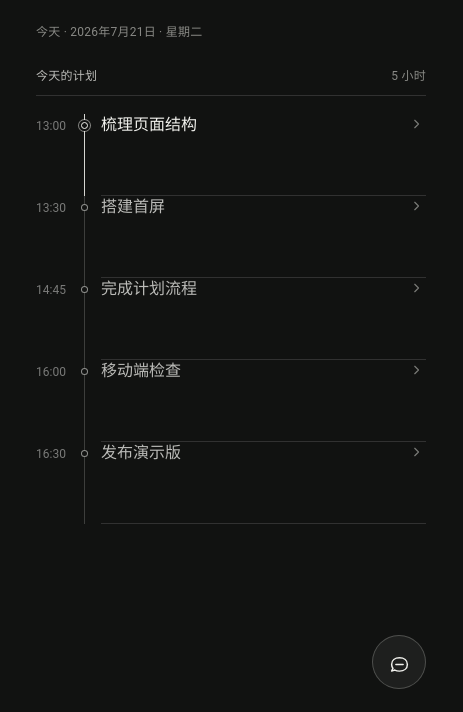
Test: production Hermes MVP interface › opens a dedicated conversation with two multiline textareas
Click the button named "打开对话". click: (399, 662)
box: [372, 635, 426, 689]
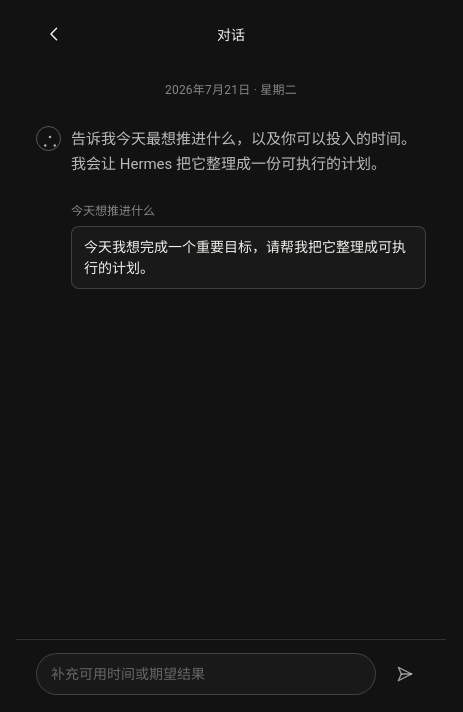
Expected: the heading "对话" is shown, [217, 27, 245, 43]
Expected: the button named "返回今天" is shown, [36, 16, 72, 52]
